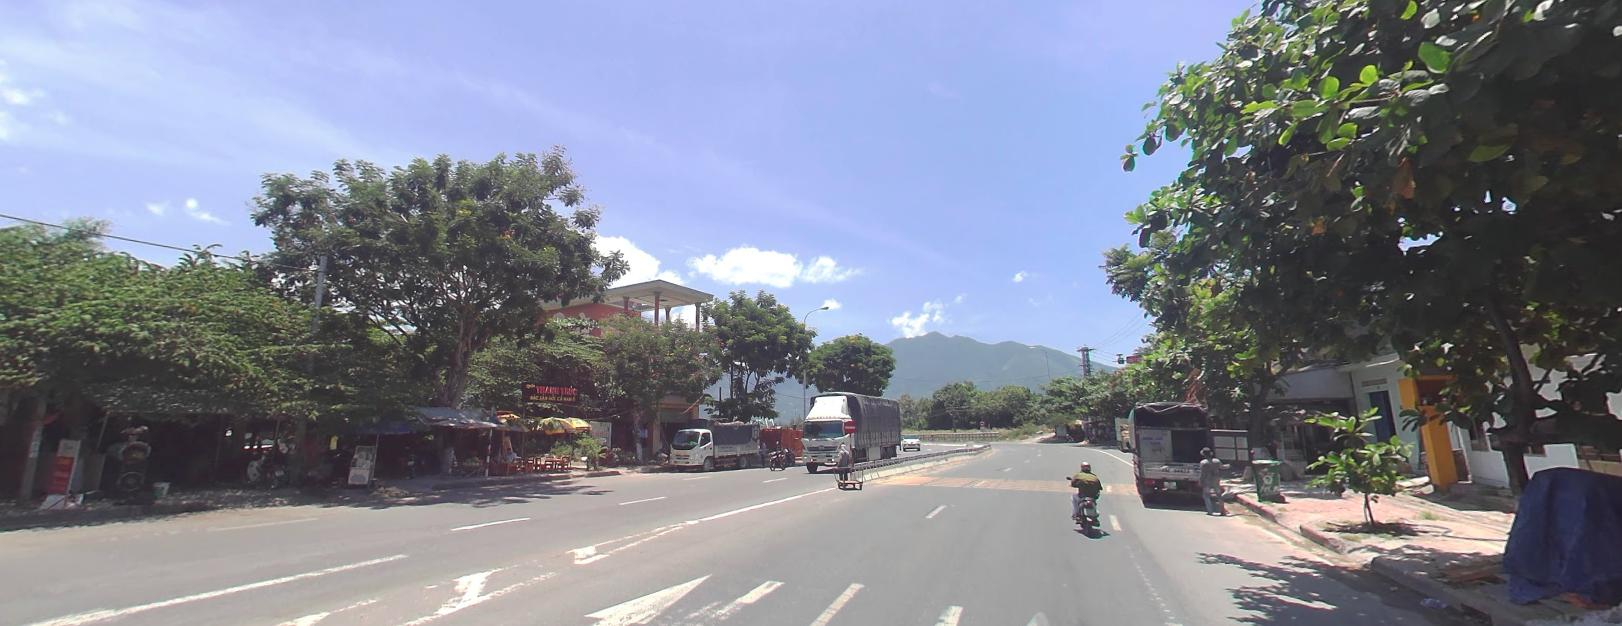Cam con lai: (979, 419, 984, 424)
Cam nguoc chieu: (842, 419, 857, 433)
